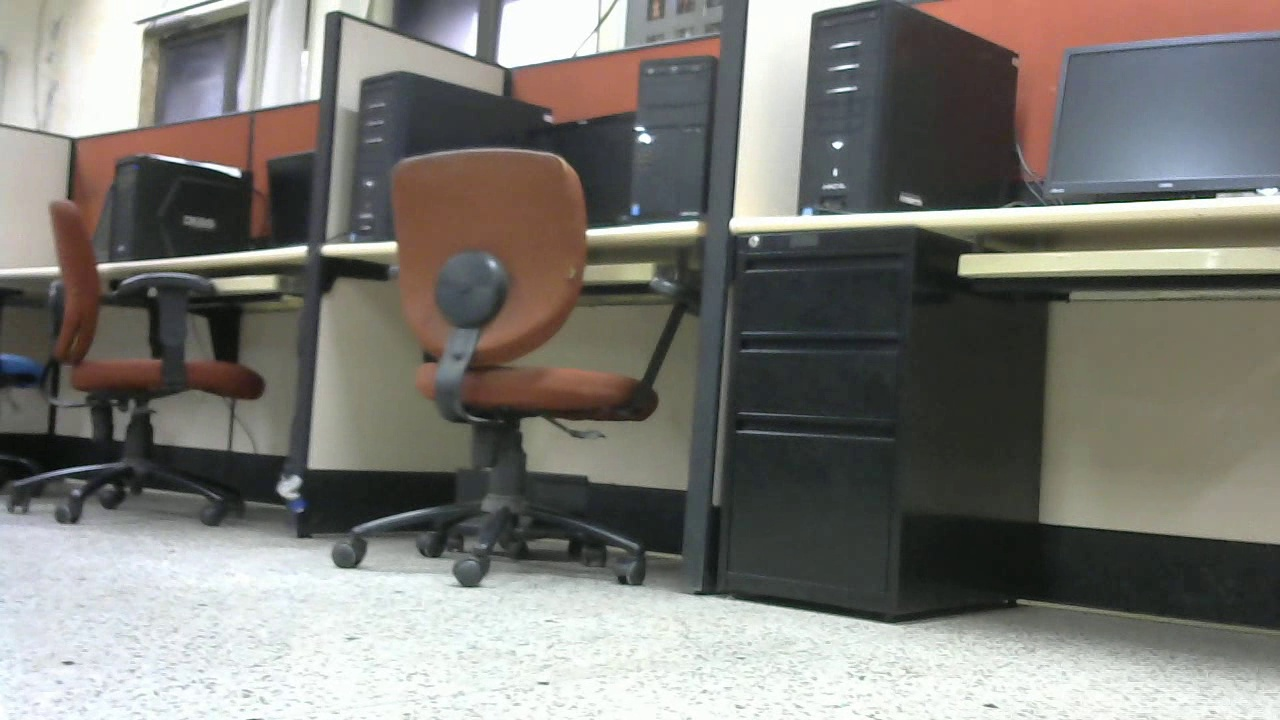chair: (324, 147, 700, 604), (5, 196, 260, 528)
